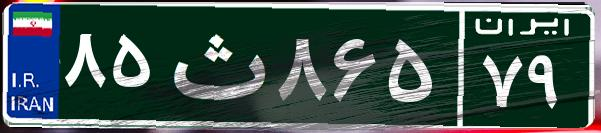5: (385, 28, 445, 110), (110, 28, 158, 105)
6: (330, 28, 385, 110)
7: (475, 38, 525, 113)
8: (273, 28, 330, 110), (57, 26, 110, 107)
9: (525, 38, 570, 115)
ث: (158, 15, 273, 115)
